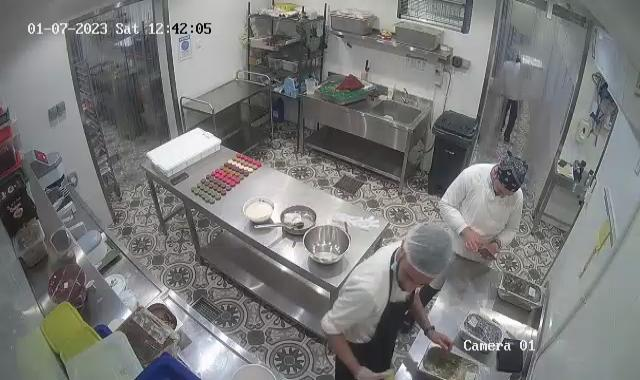hairnet: (399, 224, 456, 279)
no_hairnet: (491, 153, 529, 197)
